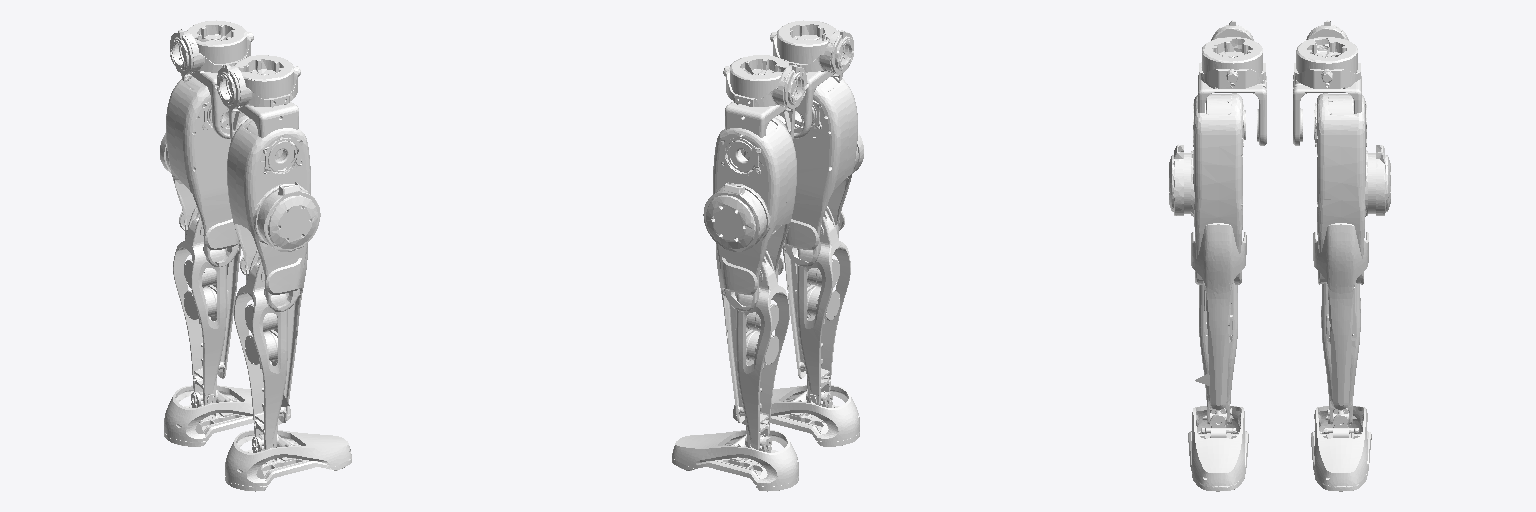
URDF robot description (biped_s30):
<?xml version='1.0' encoding='utf-8'?>
<robot name="biped_s30">
  <mujoco>
    <compiler meshdir="../meshes/" balanceinertia="true" discardvisual="false" />
  </mujoco>
  <link name="dummy_link" />
  <link name="base_link">
    <inertial>
      <origin xyz="-0.00505 0.0014 0.18077" rpy="0 0 0" />
      <mass value="24.2944" />
      <inertia ixx="0.28214" ixy="3e-05" ixz="0.01114" iyy="0.20534" iyz="0.00044" izz="0.13735" />
    </inertial>
    <visual>
      <origin xyz="0 0 0" rpy="0 0 0" />
      <geometry>
        <mesh filename="package://kuavo_assets/models/biped_s40/meshes/base_link.STL" />
      </geometry>
      <material name="">
        <color rgba="1 1 1 1" />
      </material>
    </visual>
  </link>
  <joint name="dummy_to_base_link" type="floating">
    <origin xyz="0 0 0" rpy="0 0 0" />
    <parent link="dummy_link" />
    <child link="base_link" />
  </joint>
  <link name="leg_l1_link">
    <inertial>
      <origin xyz="-0.00624961 -5.6e-06 -0.00874166" rpy="0 0 0" />
      <mass value="1.79206533" />
      <inertia ixx="0.00211603" ixy="7.6e-07" ixz="0.000107" iyy="0.00302948" iyz="4.73e-06" izz="0.00399385" />
    </inertial>
    <visual>
      <origin xyz="0 0 0" rpy="0 0 0" />
      <geometry>
        <mesh filename="package://kuavo_assets/models/biped_s40/meshes/l_leg_roll.STL" />
      </geometry>
      <material name="">
        <color rgba="1 1 1 1" />
      </material>
    </visual>
  </link>
  <joint name="leg_l1_joint" type="revolute">
    <origin xyz="-0.0025 0.087 -0.066" rpy="0 0 0" />
    <parent link="base_link" />
    <child link="leg_l1_link" />
    <axis xyz="1 0 0" />
    <limit lower="-0.314159265358979" upper="0.663225115757845" effort="180.0" velocity="23.55" />
  </joint>
  <link name="leg_l2_link">
    <inertial>
      <origin xyz="4.471e-05 0.04985881 -0.11682314" rpy="0 0 0" />
      <mass value="1.67630577" />
      <inertia ixx="0.00548763" ixy="-2.73e-06" ixz="-9.2e-07" iyy="0.0041542" iyz="0.00050833" izz="0.00426092" />
    </inertial>
    <visual>
      <origin xyz="0 0 0" rpy="0 0 0" />
      <geometry>
        <mesh filename="package://kuavo_assets/models/biped_s40/meshes/l_leg_yaw.STL" />
      </geometry>
      <material name="">
        <color rgba="1 1 1 1" />
      </material>
    </visual>
  </link>
  <joint name="leg_l2_joint" type="revolute">
    <origin xyz="0 0 0" rpy="0 0 0" />
    <parent link="leg_l1_link" />
    <child link="leg_l2_link" />
    <axis xyz="0 0 1" />
    <limit lower="-1.0471975511966" upper="0.523598775598299" effort="100.0" velocity="41.3433333333333" />
  </joint>
  <link name="leg_l3_link">
    <inertial>
      <origin xyz="-0.00238348 -0.02309435 -0.06304956" rpy="0 0 0" />
      <mass value="2.46847" />
      <inertia ixx="0.02435272" ixy="4.518e-05" ixz="0.00123822" iyy="0.02479772" iyz="0.00261624" izz="0.00478829" />
    </inertial>
    <visual>
      <origin xyz="0 0 0" rpy="0 0 0" />
      <geometry>
        <mesh filename="package://kuavo_assets/models/biped_s40/meshes/l_leg_pitch.STL" />
      </geometry>
      <material name="">
        <color rgba="1 1 1 1" />
      </material>
    </visual>
  </link>
  <joint name="leg_l3_joint" type="revolute">
    <origin xyz="0 0.02545000000000 -0.1287" rpy="0 0 0" />
    <parent link="leg_l2_link" />
    <child link="leg_l3_link" />
    <axis xyz="0 1 0" />
    <limit lower="-1.83259571459405" upper="1.0471975511966" effort="100.0" velocity="41.3433333333333" />
  </joint>
  <link name="leg_l4_link">
    <inertial>
      <origin xyz="0.00304104 -4.1e-05 -0.12213928" rpy="0 0 0" />
      <mass value="1.86452506" />
      <inertia ixx="0.01537791" ixy="7.85e-06" ixz="-0.00010781" iyy="0.01559985" iyz="-0.00015323" izz="0.00123021" />
    </inertial>
    <visual>
      <origin xyz="0 0 0" rpy="0 0 0" />
      <geometry>
        <mesh filename="package://kuavo_assets/models/biped_s40/meshes/l_knee.STL" />
      </geometry>
      <material name="">
        <color rgba="1 1 1 1" />
      </material>
    </visual>
  </link>
  <joint name="leg_l4_joint" type="revolute">
    <origin xyz="-0.010390161952608 0 -0.249783995753446" rpy="0 0 0" />
    <parent link="leg_l3_link" />
    <child link="leg_l4_link" />
    <axis xyz="0 1 0" />
    <limit lower="0.0" upper="2.18166156499291" effort="100.0" velocity="41.3433333333333" />
  </joint>
  <link name="leg_l5_link">
    <inertial>
      <origin xyz="0.0 0.0 0.0" rpy="0 0 0" />
      <mass value="0.06923929" />
      <inertia ixx="6.66e-06" ixy="0.0" ixz="0.0" iyy="6.66e-06" iyz="0.0" izz="1.172e-05" />
    </inertial>
    <visual>
      <origin xyz="0 0 0" rpy="0 0 0" />
      <geometry>
        <mesh filename="package://kuavo_assets/models/biped_s40/meshes/l_foot_pitch.STL" />
      </geometry>
      <material name="">
        <color rgba="1 1 1 1" />
      </material>
    </visual>
  </link>
  <joint name="leg_l5_joint" type="revolute">
    <origin xyz="0 0 -0.346000000000004" rpy="0 0 0" />
    <parent link="leg_l4_link" />
    <child link="leg_l5_link" />
    <axis xyz="0 1 0" />
    <limit lower="-0.610865238198015" upper="0.523598775598299" effort="36.0" velocity="23.0266666666667" />
  </joint>
  <link name="leg_l6_link">
    <inertial>
      <origin xyz="-0.00987056 -7.58e-06 -0.03365514" rpy="0 0 0" />
      <mass value="0.58358325" />
      <inertia ixx="0.0006342" ixy="1.4e-07" ixz="0.00031564" iyy="0.00227317" iyz="-2e-08" izz="0.00239382" />
    </inertial>
    <visual>
      <origin xyz="0 0 0" rpy="0 0 0" />
      <geometry>
        <mesh filename="package://kuavo_assets/models/biped_s40/meshes/l_foot_roll.STL" />
      </geometry>
      <material name="">
        <color rgba="1 1 1 1" />
      </material>
    </visual>
  </link>
  <joint name="leg_l6_joint" type="revolute">
    <origin xyz="0 0 0" rpy="0 0 0" />
    <parent link="leg_l5_link" />
    <child link="leg_l6_link" />
    <axis xyz="1 0 0" />
    <limit lower="-0.349065850398866" upper="0.349065850398866" effort="36.0" velocity="23.0266666666667" />
  </joint>
  <link name="ll_foot_toe">
    <collision>
      <origin rpy="0 0 0" xyz="0 0 0" />
      <geometry>
        <sphere radius="0.005" />
      </geometry>
    </collision>
  </link>
  <joint name="ll_foot_toe_joint" type="fixed">
    <origin xyz="0.142507 0.04773 -0.0595" rpy="0 0 0" />
    <parent link="leg_l6_link" />
    <child link="ll_foot_toe" />
  </joint>
  <link name="ll_foot_heel">
    <collision>
      <origin rpy="0 0 0" xyz="0 0 0" />
      <geometry>
        <sphere radius="0.005" />
      </geometry>
    </collision>
  </link>
  <joint name="ll_foot_heel_joint" type="fixed">
    <origin xyz="-0.10149 0.04773 -0.0595" rpy="0 0 0" />
    <parent link="leg_l6_link" />
    <child link="ll_foot_heel" />
  </joint>
  <link name="lr_foot_toe">
    <collision>
      <origin rpy="0 0 0" xyz="0 0 0" />
      <geometry>
        <sphere radius="0.005" />
      </geometry>
    </collision>
  </link>
  <joint name="lr_foot_toe_joint" type="fixed">
    <origin xyz="0.142507 -0.04773 -0.0595" rpy="0 0 0" />
    <parent link="leg_l6_link" />
    <child link="lr_foot_toe" />
  </joint>
  <link name="lr_foot_heel">
    <collision>
      <origin rpy="0 0 0" xyz="0 0 0" />
      <geometry>
        <sphere radius="0.005" />
      </geometry>
    </collision>
  </link>
  <joint name="lr_foot_heel_joint" type="fixed">
    <origin xyz="-0.10149 -0.04773 -0.0595" rpy="0 0 0" />
    <parent link="leg_l6_link" />
    <child link="lr_foot_heel" />
  </joint>
  <link name="l_foot_toe">
    <collision>
      <origin rpy="0 0 0" xyz="0 0 0" />
      <geometry>
        <sphere radius="0.005" />
      </geometry>
    </collision>
  </link>
  <joint name="l_foot_toe_joint" type="fixed">
    <origin xyz="0.142507 0.0 -0.0595" rpy="0 0 0" />
    <parent link="leg_l6_link" />
    <child link="l_foot_toe" />
  </joint>
  <link name="l_foot_heel">
    <collision>
      <origin rpy="0 0 0" xyz="0 0 0" />
      <geometry>
        <sphere radius="0.005" />
      </geometry>
    </collision>
  </link>
  <joint name="l_foot_heel_joint" type="fixed">
    <origin xyz="-0.10149 0.0 -0.0595" rpy="0 0 0" />
    <parent link="leg_l6_link" />
    <child link="l_foot_heel" />
  </joint>
  <link name="leg_r1_link">
    <inertial>
      <origin xyz="-0.00624961 5.65e-06 -0.00874165" rpy="0 0 0" />
      <mass value="1.79206572" />
      <inertia ixx="0.00211603" ixy="-7.6e-07" ixz="0.000107" iyy="0.00302948" iyz="-4.73e-06" izz="0.00399385" />
    </inertial>
    <visual>
      <origin xyz="0 0 0" rpy="0 0 0" />
      <geometry>
        <mesh filename="package://kuavo_assets/models/biped_s40/meshes/r_leg_roll.STL" />
      </geometry>
      <material name="">
        <color rgba="1 1 1 1" />
      </material>
    </visual>
  </link>
  <joint name="leg_r1_joint" type="revolute">
    <origin xyz="-0.0025 -0.087 -0.066" rpy="0 0 0" />
    <parent link="base_link" />
    <child link="leg_r1_link" />
    <axis xyz="1 0 0" />
    <limit lower="-0.663225115757845" upper="0.314159265358979" effort="180.0" velocity="23.55" />
  </joint>
  <link name="leg_r2_link">
    <inertial>
      <origin xyz="4.471e-05 -0.04985878 -0.11682313" rpy="0 0 0" />
      <mass value="1.67630636" />
      <inertia ixx="0.00548764" ixy="2.73e-06" ixz="-9.2e-07" iyy="0.00415421" iyz="-0.00050832" izz="0.00426093" />
    </inertial>
    <visual>
      <origin xyz="0 0 0" rpy="0 0 0" />
      <geometry>
        <mesh filename="package://kuavo_assets/models/biped_s40/meshes/r_leg_yaw.STL" />
      </geometry>
      <material name="">
        <color rgba="1 1 1 1" />
      </material>
    </visual>
  </link>
  <joint name="leg_r2_joint" type="revolute">
    <origin xyz="0 0 0" rpy="0 0 0" />
    <parent link="leg_r1_link" />
    <child link="leg_r2_link" />
    <axis xyz="0 0 1" />
    <limit lower="-0.523598775598299" upper="1.0471975511966" effort="100.0" velocity="41.3433333333333" />
  </joint>
  <link name="leg_r3_link">
    <inertial>
      <origin xyz="-0.00238153 0.02309009 -0.06305853" rpy="0 0 0" />
      <mass value="2.46916674" />
      <inertia ixx="0.02435155" ixy="-4.518e-05" ixz="0.00123747" iyy="0.02479853" iyz="-0.00261573" izz="0.0047908" />
    </inertial>
    <visual>
      <origin xyz="0 0 0" rpy="0 0 0" />
      <geometry>
        <mesh filename="package://kuavo_assets/models/biped_s40/meshes/r_leg_pitch.STL" />
      </geometry>
      <material name="">
        <color rgba="1 1 1 1" />
      </material>
    </visual>
  </link>
  <joint name="leg_r3_joint" type="revolute">
    <origin xyz="0 -0.02545000000000 -0.1287" rpy="0 0 0" />
    <parent link="leg_r2_link" />
    <child link="leg_r3_link" />
    <axis xyz="0 1 0" />
    <limit lower="-1.83259571459405" upper="1.0471975511966" effort="100.0" velocity="41.3433333333333" />
  </joint>
  <link name="leg_r4_link">
    <inertial>
      <origin xyz="0.00304109 4.102e-05 -0.12213983" rpy="0 0 0" />
      <mass value="1.86454133" />
      <inertia ixx="0.01537809" ixy="-7.85e-06" ixz="-0.00010779" iyy="0.01560001" iyz="0.00015322" izz="0.00123022" />
    </inertial>
    <visual>
      <origin xyz="0 0 0" rpy="0 0 0" />
      <geometry>
        <mesh filename="package://kuavo_assets/models/biped_s40/meshes/r_knee.STL" />
      </geometry>
      <material name="">
        <color rgba="1 1 1 1" />
      </material>
    </visual>
  </link>
  <joint name="leg_r4_joint" type="revolute">
    <origin xyz="-0.0103901619526017 0 -0.249783995753447" rpy="0 0 0" />
    <parent link="leg_r3_link" />
    <child link="leg_r4_link" />
    <axis xyz="0 1 0" />
    <limit lower="0.0" upper="2.18166156499291" effort="100.0" velocity="41.3433333333333" />
  </joint>
  <link name="leg_r5_link">
    <inertial>
      <origin xyz="0.0 0.0 0.0" rpy="0 0 0" />
      <mass value="0.06923929" />
      <inertia ixx="6.66e-06" ixy="0.0" ixz="0.0" iyy="6.66e-06" iyz="0.0" izz="1.172e-05" />
    </inertial>
    <visual>
      <origin xyz="0 0 0" rpy="0 0 0" />
      <geometry>
        <mesh filename="package://kuavo_assets/models/biped_s40/meshes/r_foot_pitch.STL" />
      </geometry>
      <material name="">
        <color rgba="1 1 1 1" />
      </material>
    </visual>
  </link>
  <joint name="leg_r5_joint" type="revolute">
    <origin xyz="0 0 -0.346000000000011" rpy="0 0 0" />
    <parent link="leg_r4_link" />
    <child link="leg_r5_link" />
    <axis xyz="0 1 0" />
    <limit lower="-0.523598775598299" upper="0.523598775598299" effort="36.0" velocity="23.0266666666667" />
  </joint>
  <link name="leg_r6_link">
    <inertial>
      <origin xyz="-0.00987049 7.65e-06 -0.03365512" rpy="0 0 0" />
      <mass value="0.58358273" />
      <inertia ixx="0.0006342" ixy="-1.4e-07" ixz="0.00031564" iyy="0.00227317" iyz="2e-08" izz="0.00239382" />
    </inertial>
    <visual>
      <origin xyz="0 0 0" rpy="0 0 0" />
      <geometry>
        <mesh filename="package://kuavo_assets/models/biped_s40/meshes/r_foot_roll.STL" />
      </geometry>
      <material name="">
        <color rgba="1 1 1 1" />
      </material>
    </visual>
  </link>
  <joint name="leg_r6_joint" type="revolute">
    <origin xyz="0 0 0" rpy="0 0 0" />
    <parent link="leg_r5_link" />
    <child link="leg_r6_link" />
    <axis xyz="1 0 0" />
    <limit lower="-0.349065850398866" upper="0.349065850398866" effort="36.0" velocity="23.0266666666667" />
  </joint>
  <link name="rl_foot_toe">
    <collision>
      <origin rpy="0 0 0" xyz="0 0 0" />
      <geometry>
        <sphere radius="0.005" />
      </geometry>
    </collision>
  </link>
  <joint name="rl_foot_toe_joint" type="fixed">
    <origin xyz="0.142507 0.04773 -0.0595" rpy="0 0 0" />
    <parent link="leg_r6_link" />
    <child link="rl_foot_toe" />
  </joint>
  <link name="rl_foot_heel">
    <collision>
      <origin rpy="0 0 0" xyz="0 0 0" />
      <geometry>
        <sphere radius="0.005" />
      </geometry>
    </collision>
  </link>
  <joint name="rl_foot_heel_joint" type="fixed">
    <origin xyz="-0.10149 0.04773 -0.0595" rpy="0 0 0" />
    <parent link="leg_r6_link" />
    <child link="rl_foot_heel" />
  </joint>
  <link name="rr_foot_toe">
    <collision>
      <origin rpy="0 0 0" xyz="0 0 0" />
      <geometry>
        <sphere radius="0.005" />
      </geometry>
    </collision>
  </link>
  <joint name="rr_foot_toe_joint" type="fixed">
    <origin xyz="0.142507 -0.04773 -0.0595" rpy="0 0 0" />
    <parent link="leg_r6_link" />
    <child link="rr_foot_toe" />
  </joint>
  <link name="rr_foot_heel">
    <collision>
      <origin rpy="0 0 0" xyz="0 0 0" />
      <geometry>
        <sphere radius="0.005" />
      </geometry>
    </collision>
  </link>
  <joint name="rr_foot_heel_joint" type="fixed">
    <origin xyz="-0.10149 -0.04773 -0.0595" rpy="0 0 0" />
    <parent link="leg_r6_link" />
    <child link="rr_foot_heel" />
  </joint>
  <link name="r_foot_toe">
    <collision>
      <origin rpy="0 0 0" xyz="0 0 0" />
      <geometry>
        <sphere radius="0.005" />
      </geometry>
    </collision>
  </link>
  <joint name="r_foot_toe_joint" type="fixed">
    <origin xyz="0.142507 0.0 -0.0595" rpy="0 0 0" />
    <parent link="leg_r6_link" />
    <child link="r_foot_toe" />
  </joint>
  <link name="r_foot_heel">
    <collision>
      <origin rpy="0 0 0" xyz="0 0 0" />
      <geometry>
        <sphere radius="0.005" />
      </geometry>
    </collision>
  </link>
  <joint name="r_foot_heel_joint" type="fixed">
    <origin xyz="-0.10149 0.0 -0.0595" rpy="0 0 0" />
    <parent link="leg_r6_link" />
    <child link="r_foot_heel" />
  </joint>
  <link name="zarm_l1_link">
    <inertial>
      <origin xyz="0.008 -0.00158 0.0036" rpy="0 0 0" />
      <mass value="1.15" />
      <inertia ixx="0.0006" ixy="5e-05" ixz="1e-05" iyy="0.00048" iyz="-6e-05" izz="0.0007" />
    </inertial>
    <visual>
      <origin xyz="0 0 0" rpy="0 0 0" />
      <geometry>
        <mesh filename="package://kuavo_assets/models/biped_s40/meshes/l_arm_pitch.STL" />
      </geometry>
      <material name="">
        <color rgba="1 1 1 1" />
      </material>
    </visual>
  </link>
  <joint name="zarm_l1_joint" type="revolute">
    <origin xyz="-0.0175 0.25886 0.3245" rpy="0 0 0" />
    <parent link="base_link" />
    <child link="zarm_l1_link" />
    <axis xyz="0 1 0" />
    <limit lower="-2.61799387799149" upper="0.523598775598299" effort="100.0" velocity="41.3433333333333" />
  </joint>
  <link name="zarm_r1_link">
    <inertial>
      <origin xyz="0.008 0.00158 -0.0036" rpy="0 0 0" />
      <mass value="1.15" />
      <inertia ixx="0.0006" ixy="-5e-05" ixz="-1e-05" iyy="0.00048" iyz="-6e-05" izz="0.0007" />
    </inertial>
    <visual>
      <origin xyz="0 0 0" rpy="0 0 0" />
      <geometry>
        <mesh filename="package://kuavo_assets/models/biped_s40/meshes/r_arm_pitch.STL" />
      </geometry>
      <material name="">
        <color rgba="1 1 1 1" />
      </material>
    </visual>
  </link>
  <joint name="zarm_r1_joint" type="revolute">
    <origin xyz="-0.0175 -0.25886 0.3245" rpy="0 0 0" />
    <parent link="base_link" />
    <child link="zarm_r1_link" />
    <axis xyz="0 1 0" />
    <limit lower="-2.61799387799149" upper="0.523598775598299" effort="100.0" velocity="41.3433333333333" />
  </joint>
</robot>

--- What the picture shows (computed from the rendered views, not written in the file) ---
3 views of the same robot in one strip: view 1: azimuth 30°, elevation 25°; view 2: azimuth 150°, elevation 25°; view 3: azimuth 270°, elevation 25° (orthographic).
Robot: biped_s30 — 28 links, 27 joints (14 revolute, 12 fixed, 1 floating); root link dummy_link; default pose: all joints at 0.
Links seen in each view (by area): view 1: leg_r3_link, leg_r4_link, leg_l4_link, leg_l3_link, leg_r6_link, leg_l6_link, leg_r1_link, leg_l1_link, leg_r2_link, leg_l2_link; view 2: leg_l3_link, leg_l4_link, leg_r4_link, leg_r3_link, leg_l6_link, leg_r6_link, leg_l1_link, leg_r1_link, leg_l2_link, leg_r2_link; view 3: leg_r3_link, leg_l3_link, leg_r4_link, leg_l4_link, leg_r6_link, leg_l6_link, leg_l1_link, leg_r1_link, leg_l2_link, leg_r2_link.
Link boxes in pixels (x1=…): leg_r3_link: x1=227, y1=118, x2=320, y2=311; leg_r4_link: x1=234, y1=248, x2=307, y2=449; leg_l4_link: x1=173, y1=206, x2=241, y2=405; leg_l3_link: x1=160, y1=75, x2=238, y2=266; leg_r6_link: x1=225, y1=430, x2=351, y2=491; leg_l6_link: x1=164, y1=385, x2=290, y2=446; leg_r1_link: x1=217, y1=55, x2=300, y2=109; leg_l1_link: x1=170, y1=20, x2=253, y2=74; leg_r2_link: x1=229, y1=101, x2=298, y2=171; leg_l2_link: x1=181, y1=72, x2=229, y2=138; leg_l3_link: x1=703, y1=118, x2=796, y2=311; leg_l4_link: x1=716, y1=247, x2=789, y2=449; leg_r4_link: x1=782, y1=206, x2=850, y2=405; leg_r3_link: x1=785, y1=75, x2=863, y2=266; leg_l6_link: x1=672, y1=430, x2=798, y2=491; leg_r6_link: x1=733, y1=385, x2=859, y2=446; leg_l1_link: x1=723, y1=55, x2=806, y2=108; leg_r1_link: x1=770, y1=20, x2=853, y2=74; leg_l2_link: x1=725, y1=101, x2=794, y2=171; leg_r2_link: x1=794, y1=71, x2=842, y2=138; leg_r3_link: x1=1169, y1=93, x2=1245, y2=284; leg_l3_link: x1=1314, y1=93, x2=1390, y2=284; leg_r4_link: x1=1191, y1=223, x2=1246, y2=424; leg_l4_link: x1=1313, y1=223, x2=1368, y2=424; leg_r6_link: x1=1188, y1=406, x2=1248, y2=491; leg_l6_link: x1=1311, y1=406, x2=1371, y2=491; leg_l1_link: x1=1294, y1=20, x2=1360, y2=88; leg_r1_link: x1=1199, y1=20, x2=1265, y2=88; leg_l2_link: x1=1293, y1=75, x2=1361, y2=145; leg_r2_link: x1=1198, y1=75, x2=1266, y2=145.
Bounding box of the posed robot: 0.2541 × 0.4076 × 0.8409 m (x, y, z).
Meshes: 15 distinct files referenced, 12 mesh visuals loaded (12 binary STL); not drawn: 3 (reference not matched to a file when rendering).